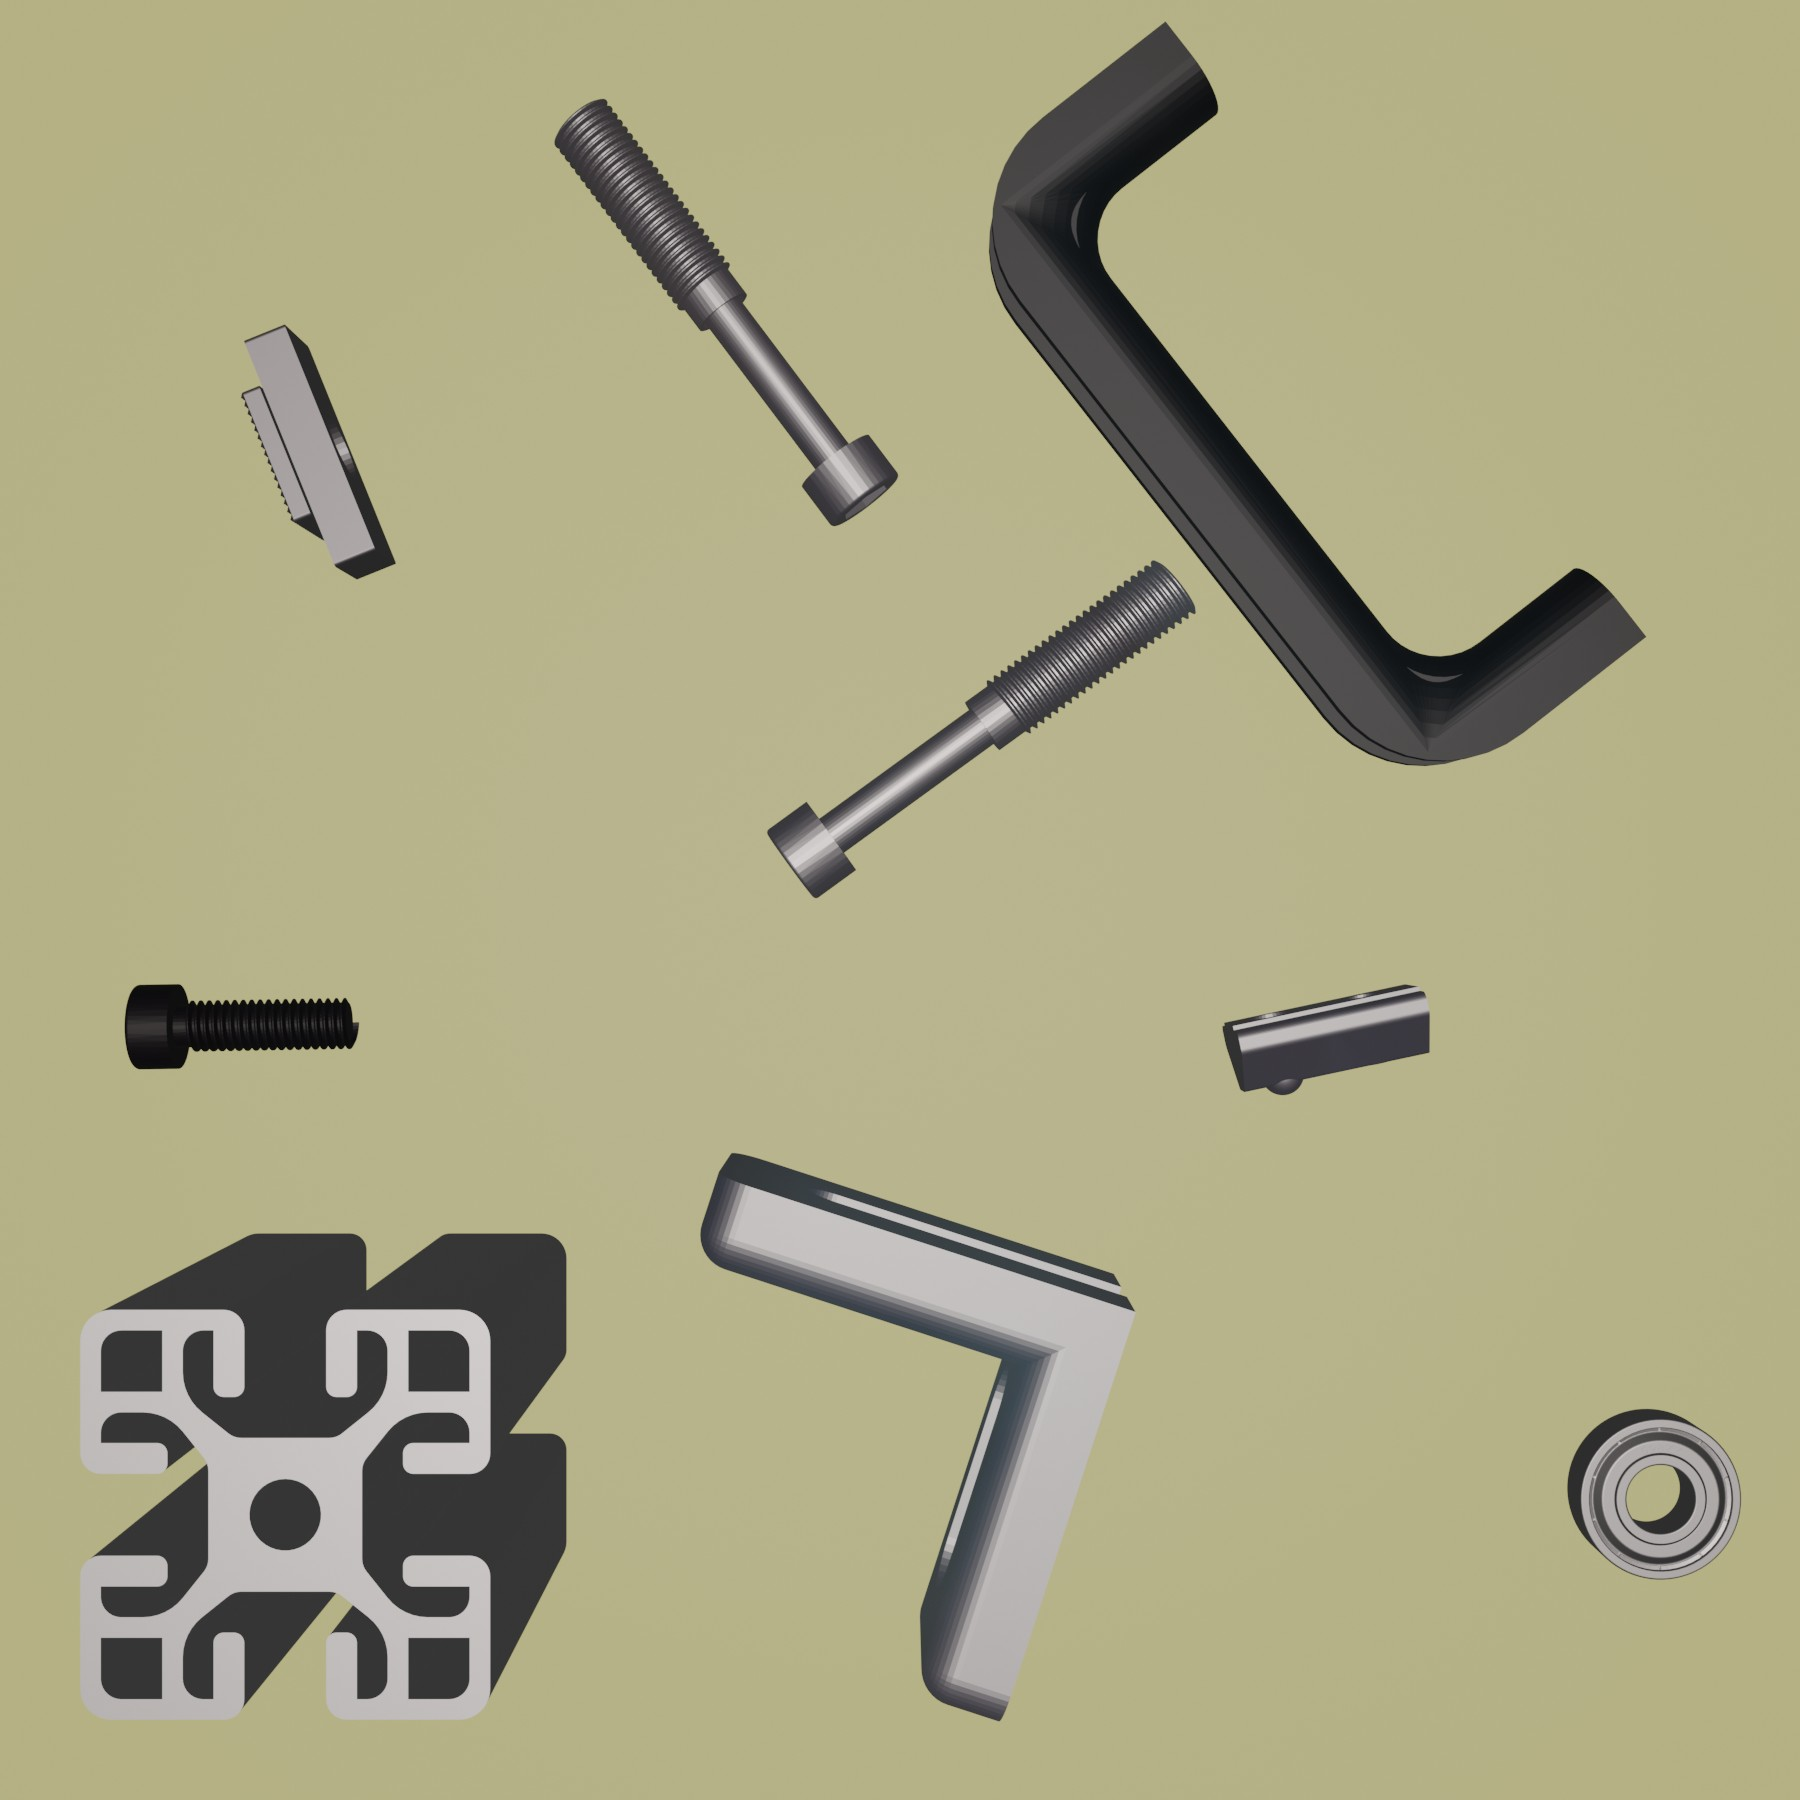Aluminium Extension: (76, 1226, 570, 1726)
Ball Bearing: (1568, 1408, 1744, 1582)
Multiwinkel: (696, 1149, 1142, 1724)
Pull Handle: (986, 18, 1650, 770)
Shoulder Socket Head Cap Screw: (547, 96, 902, 531), (763, 559, 1197, 900)
Socket Head Cap Screw: (120, 981, 363, 1071)
T Nut Square: (237, 321, 401, 582)
T Spring Nut: (1220, 981, 1437, 1099)
